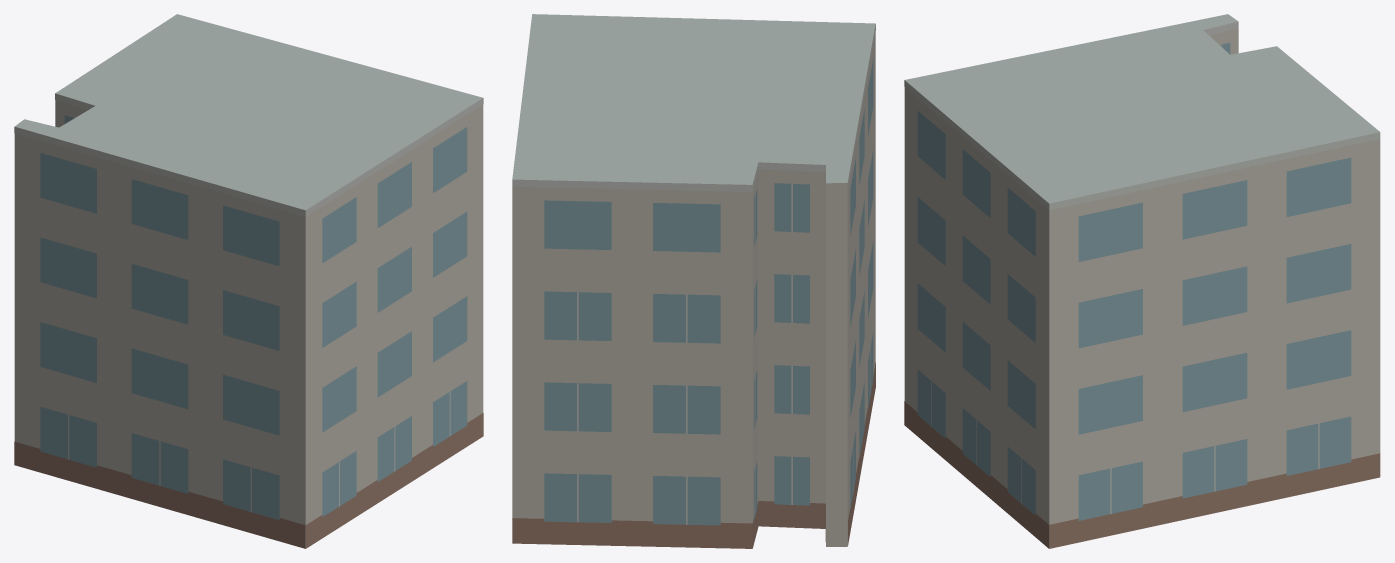
The model's file is survey-upis-32985401.glb.
3 views of the same model, side by side, from view 1: azimuth 30°, elevation 25°; view 2: azimuth 150°, elevation 25°; view 3: azimuth 270°, elevation 25° (orthographic). The views are drawn at different scales.
Parts seen in each view (by area): view 1: survey-upis-32985401.tmp; view 2: survey-upis-32985401.tmp; view 3: survey-upis-32985401.tmp.
Part boxes in pixels (bbox=[...]): survey-upis-32985401.tmp: bbox=[14, 14, 483, 548]; survey-upis-32985401.tmp: bbox=[512, 14, 875, 548]; survey-upis-32985401.tmp: bbox=[904, 14, 1380, 548].
Bounding box in the file's own units: 14.74 × 12.5 × 15.63.
